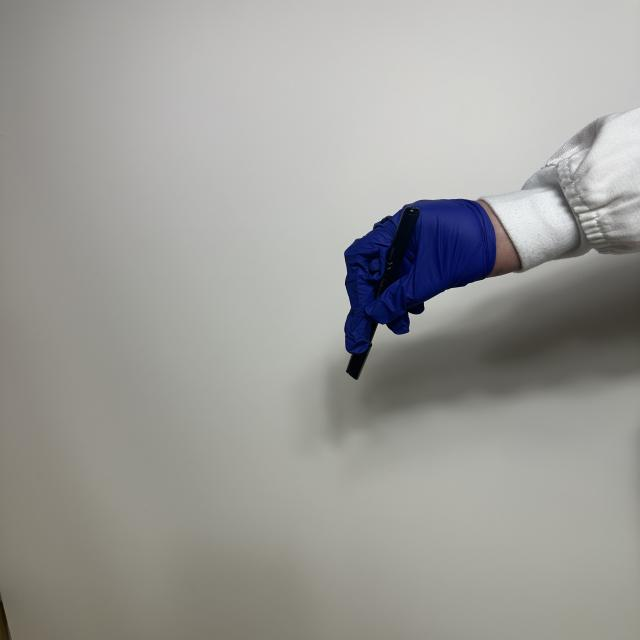glove_partial: (339, 197, 530, 353)
